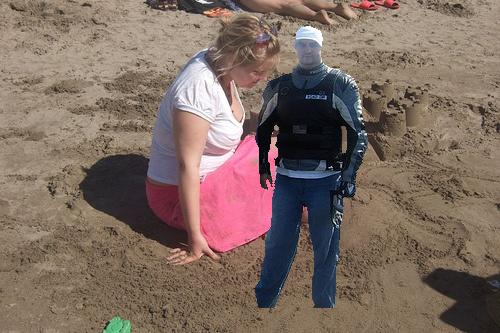tampered: (255, 27, 368, 308)
